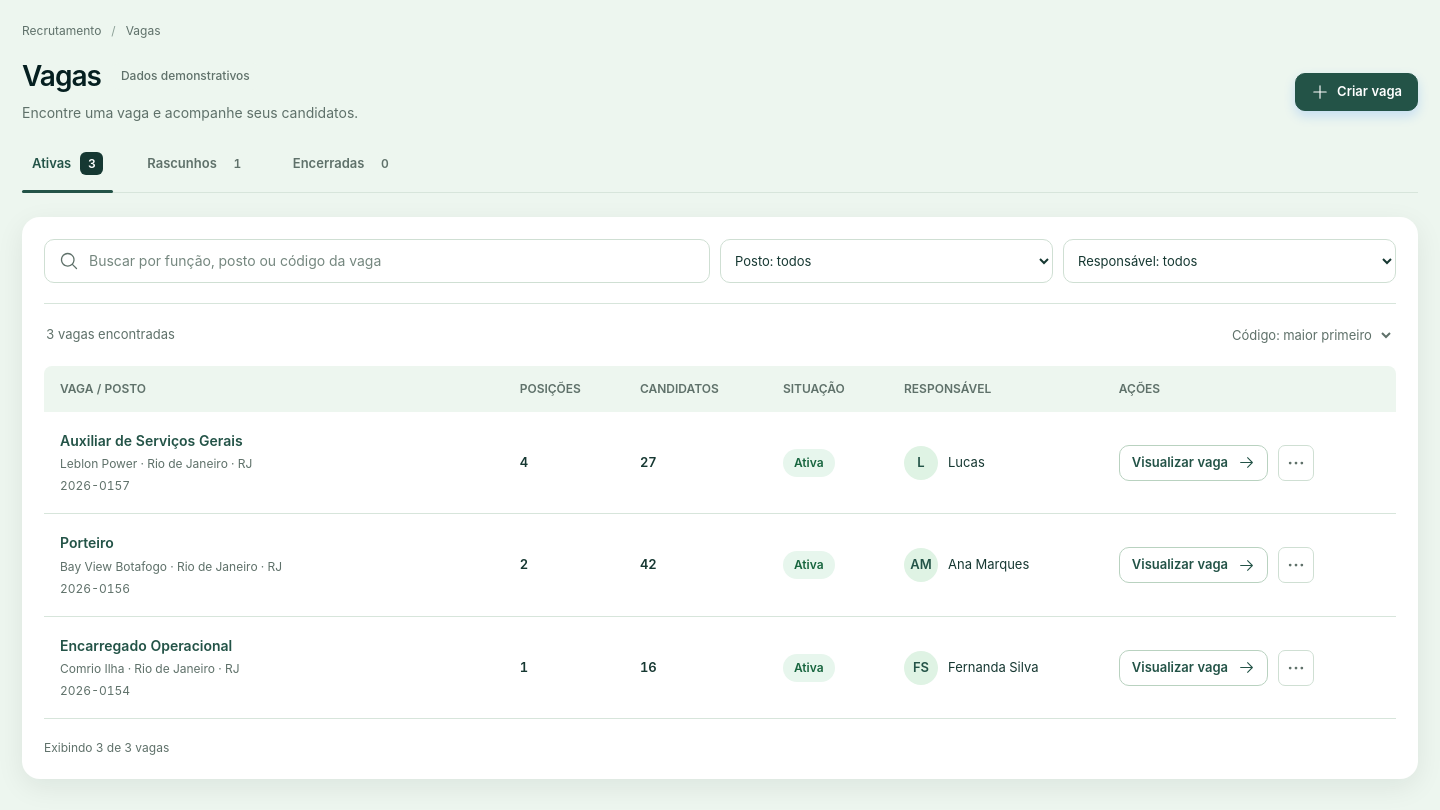
Test case: Lista operacional de vagas › finds a vacancy by its code and changes situation
In the search field labelled "Buscar por função, posto ou código da vaga": x=392, y=261 [89,250,695,272], type "0156"
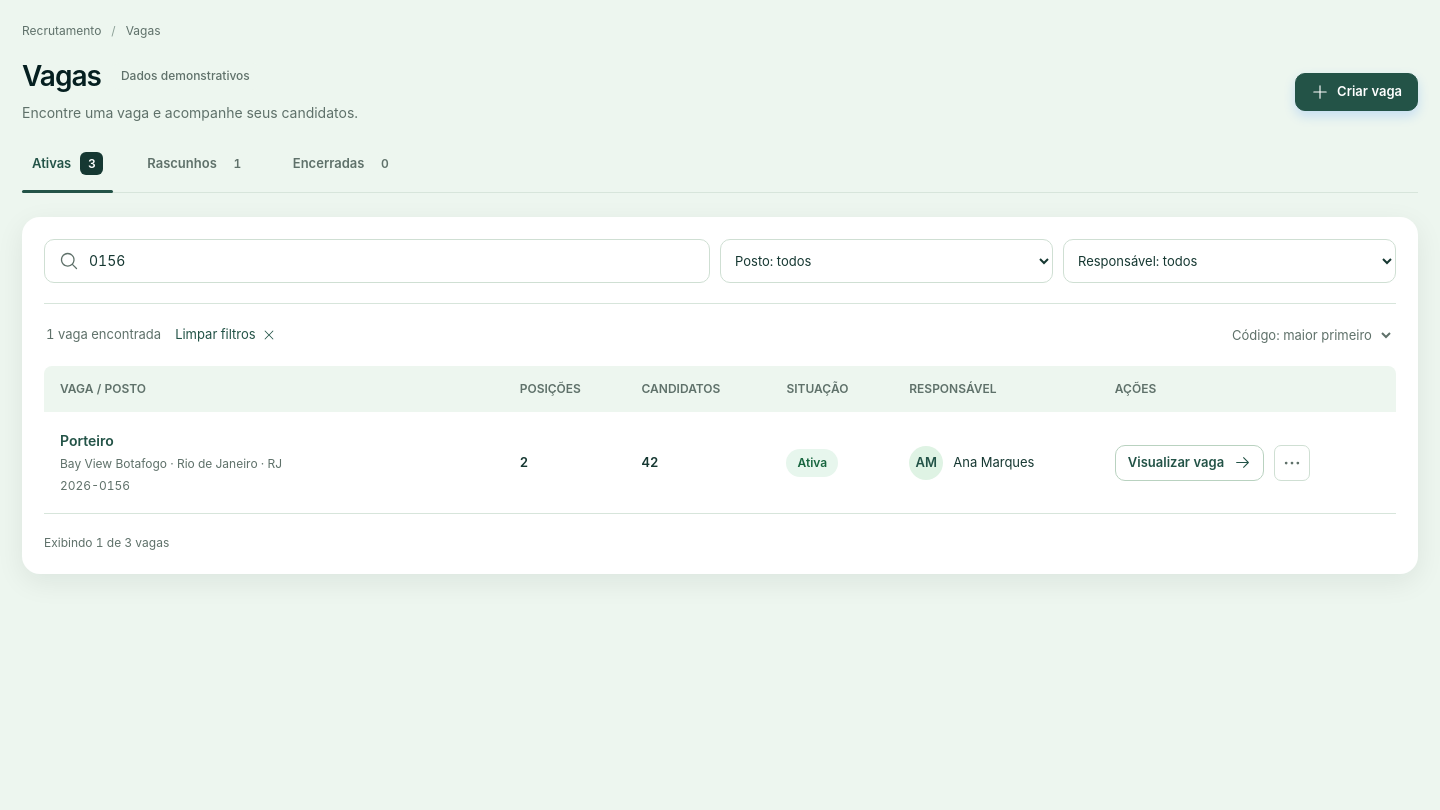
expect the button "Porteiro" is shown: met, box [60,430,114,451]
expect the button "Encarregado Operacional" is gone: met
Clear the search field named "Buscar por função": x=392, y=261 [89,250,695,272]
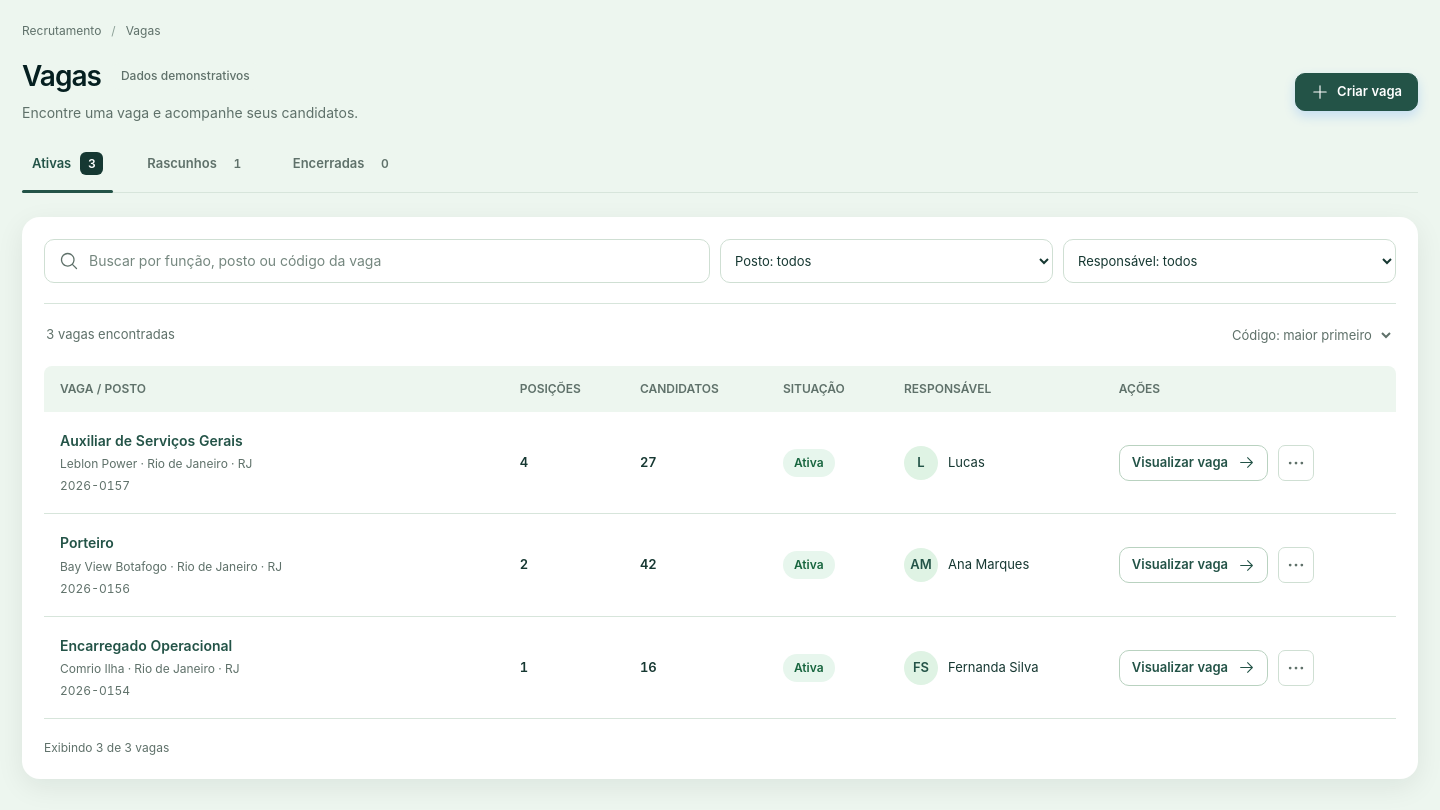
Click the button "Rascunhos 1": x=198, y=170 [137,148,259,192]
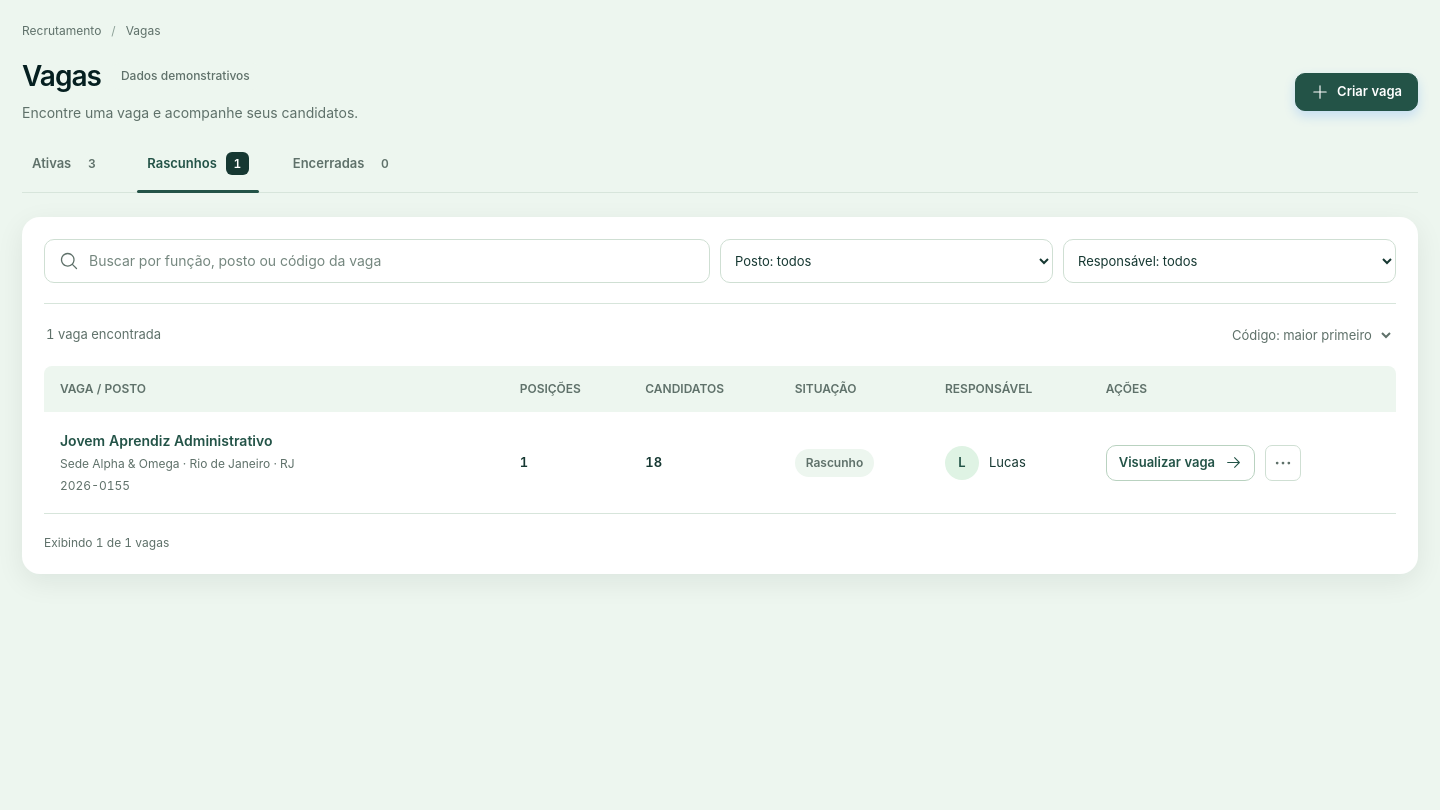
expect the button "Jovem Aprendiz Administrativo" is shown: met, box [60,430,272,451]
